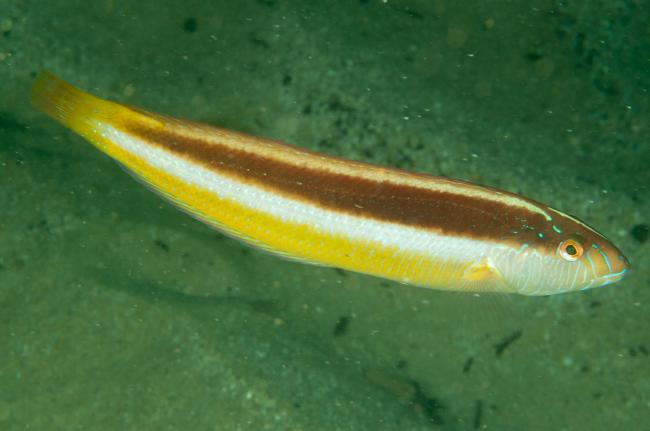fish: (27, 71, 629, 297)
